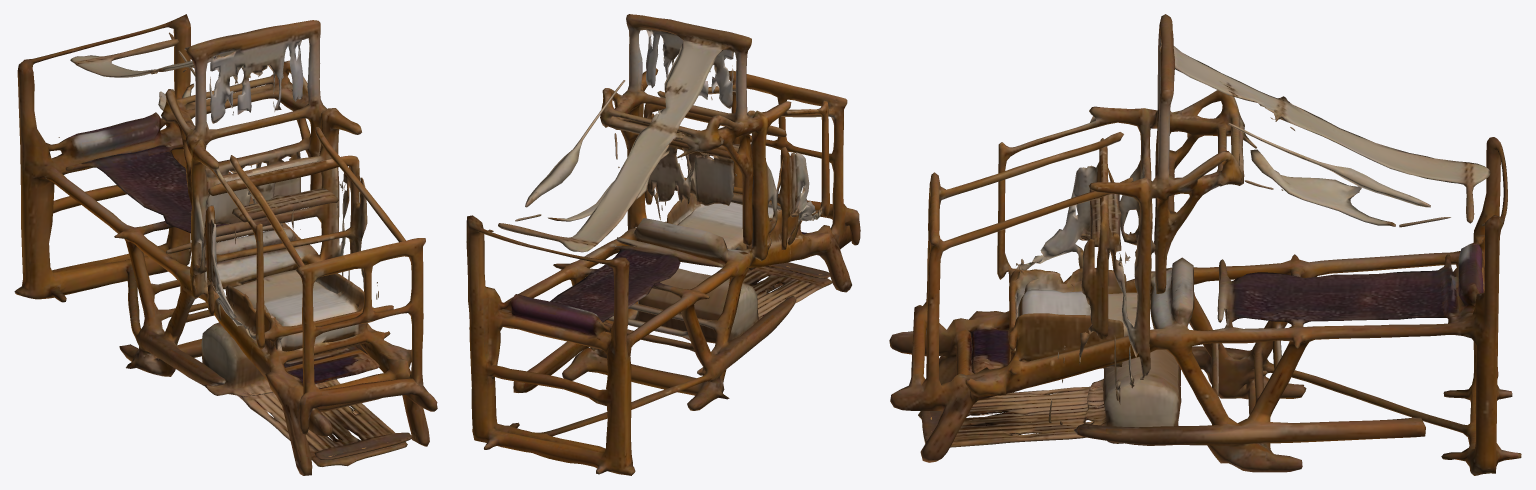
Rendered from yunjin-loom-optimized.glb.
3 views of the same model, side by side, from view 1: azimuth 30°, elevation 25°; view 2: azimuth 150°, elevation 25°; view 3: azimuth 270°, elevation 25° (orthographic). The views are drawn at different scales.
Visible parts, largest first — view 1: tripo_node_9425dc58-017e-4f25-a730-fa242d107995; view 2: tripo_node_9425dc58-017e-4f25-a730-fa242d107995; view 3: tripo_node_9425dc58-017e-4f25-a730-fa242d107995.
Boxes of the visible parts, x1=… form: tripo_node_9425dc58-017e-4f25-a730-fa242d107995: x1=14, y1=14, x2=437, y2=475; tripo_node_9425dc58-017e-4f25-a730-fa242d107995: x1=466, y1=14, x2=860, y2=475; tripo_node_9425dc58-017e-4f25-a730-fa242d107995: x1=889, y1=14, x2=1521, y2=475.
Size of the model in its own units: 0.3477 by 0.6757 by 0.9901.
1 material, 1 textured.
